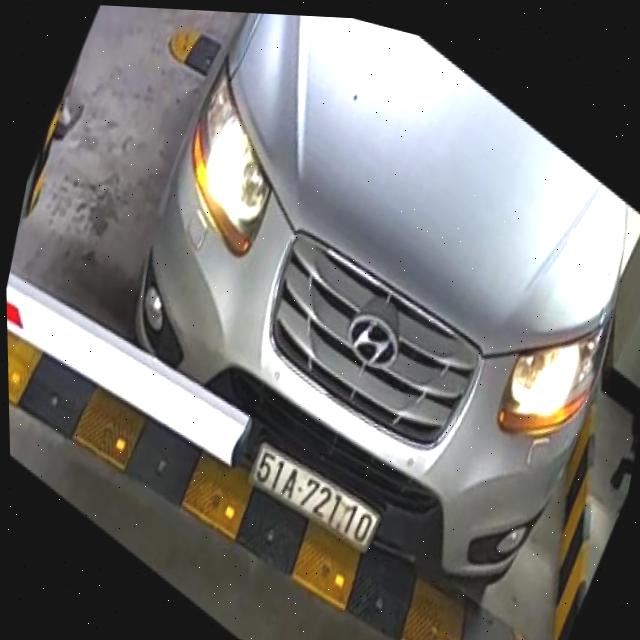car: (124, 12, 639, 596)
plate: (242, 434, 391, 560)
